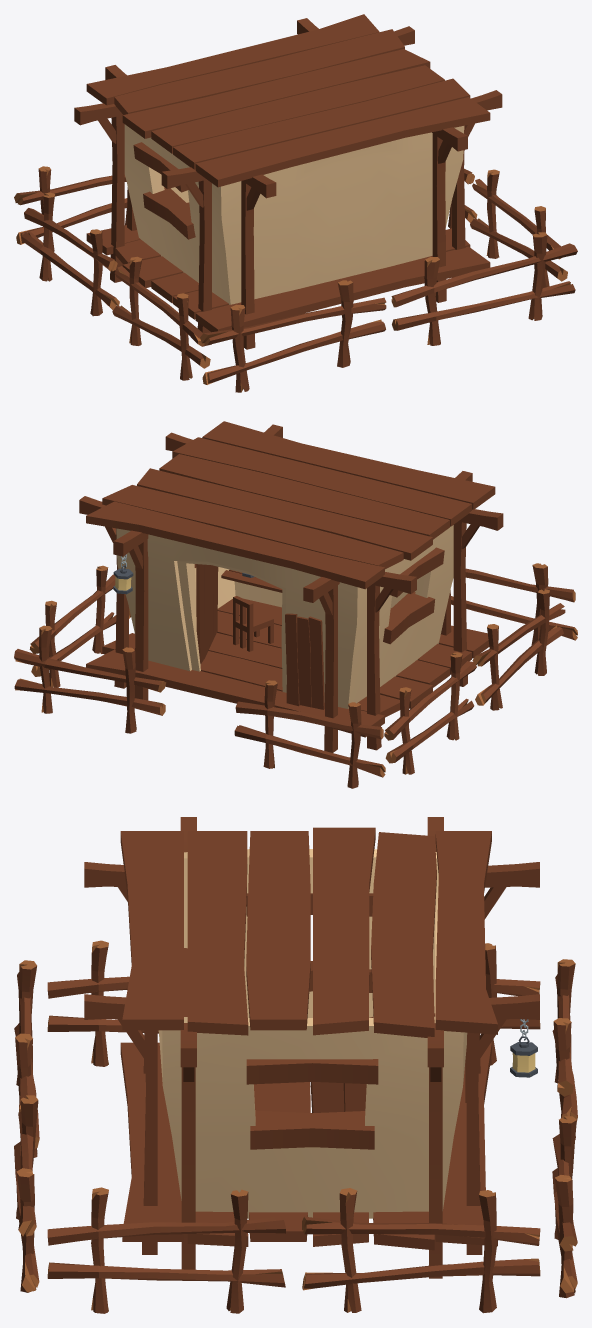
The model's file is house-tue-02.fbx.
3 views of the same model, one above another, from view 1: azimuth 30°, elevation 25°; view 2: azimuth 150°, elevation 25°; view 3: azimuth 270°, elevation 25° (orthographic). The views are drawn at different scales.
Visible parts, largest first — view 1: polySurface374, polySurface309, polySurface308, polySurface380, polySurface390, polySurface387, polySurface389, polySurface378, polySurface379, polySurface383, polySurface189, polySurface365 (+2 smaller); view 2: polySurface374, polySurface309, polySurface308, polySurface387, polySurface388, polySurface368, polySurface365, polySurface249, polySurface379, polySurface378, polySurface382, polySurface380 (+6 smaller); view 3: polySurface374, polySurface309, polySurface308, polySurface383, polySurface382, polySurface189, polySurface386, polySurface388, polySurface389, polySurface379, polySurface390, polySurface368 (+6 smaller).
Boxes of the visible parts, <box> form: polySurface374: <box>86,14,490,187</box>; polySurface309: <box>124,124,464,304</box>; polySurface308: <box>86,225,490,332</box>; polySurface380: <box>200,280,386,392</box>; polySurface390: <box>391,232,577,345</box>; polySurface387: <box>74,103,211,346</box>; polySurface389: <box>241,127,467,349</box>; polySurface378: <box>21,192,119,316</box>; polySurface379: <box>112,256,210,380</box>; polySurface383: <box>470,169,567,287</box>; polySurface189: <box>133,142,195,239</box>; polySurface365: <box>14,166,127,251</box>; polySurface374: <box>86,421,495,589</box>; polySurface309: <box>116,525,453,708</box>; polySurface308: <box>86,598,489,737</box>; polySurface387: <box>367,509,503,750</box>; polySurface388: <box>113,530,339,752</box>; polySurface368: <box>14,625,166,733</box>; polySurface365: <box>234,680,385,788</box>; polySurface249: <box>285,613,324,709</box>; polySurface379: <box>472,589,565,710</box>; polySurface378: <box>384,652,476,774</box>; polySurface382: <box>29,565,116,687</box>; polySurface380: <box>451,563,577,644</box>; polySurface374: <box>120,827,497,1037</box>; polySurface309: <box>158,849,467,1218</box>; polySurface308: <box>120,1042,497,1250</box>; polySurface383: <box>47,1187,285,1313</box>; polySurface382: <box>302,1188,540,1313</box>; polySurface189: <box>246,893,378,1149</box>; polySurface386: <box>180,1023,443,1278</box>; polySurface388: <box>466,862,539,1254</box>; polySurface389: <box>84,862,157,1254</box>; polySurface379: <box>47,940,158,1066</box>; polySurface390: <box>14,1095,39,1292</box>; polySurface368: <box>552,1116,577,1298</box>.
Bounding box in the file's own units: 478 × 226 × 442.
